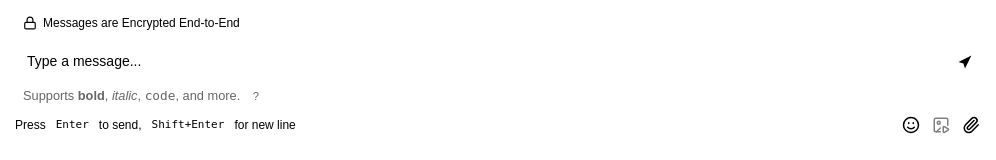
Test: MessageInput › shows upload error when uploadAll fails
The width and height of the screenshot is (996, 160).
Type "test" into the text box at (484, 62), box x1=27 y1=45 x2=941 y2=79
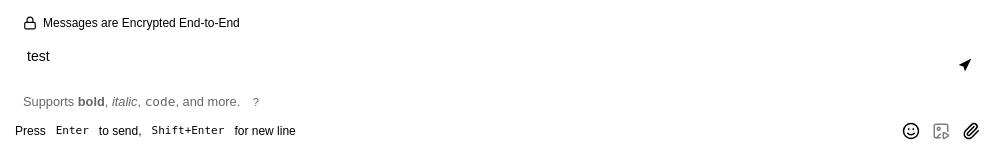
Press Enter
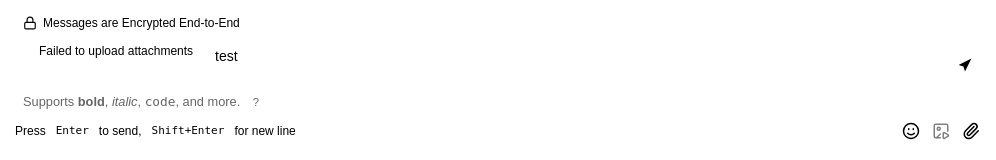
Check: the text "Failed to upload attachments" is shown, box x1=39 y1=44 x2=193 y2=58
